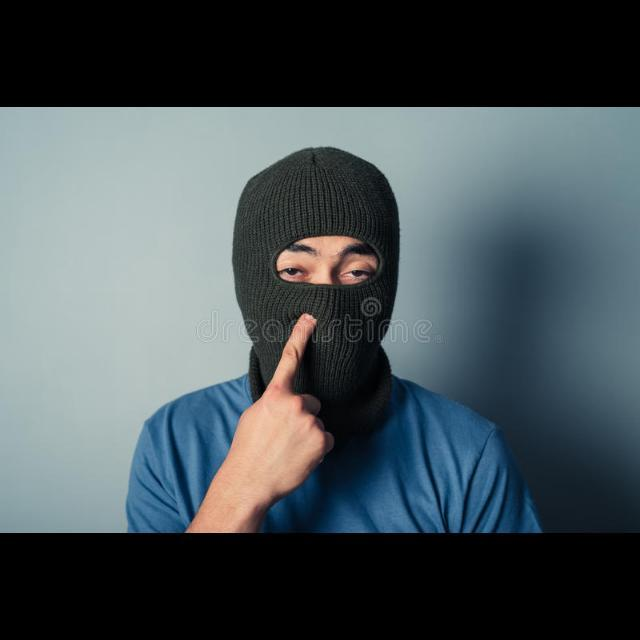criminal: (125, 146, 543, 535)
